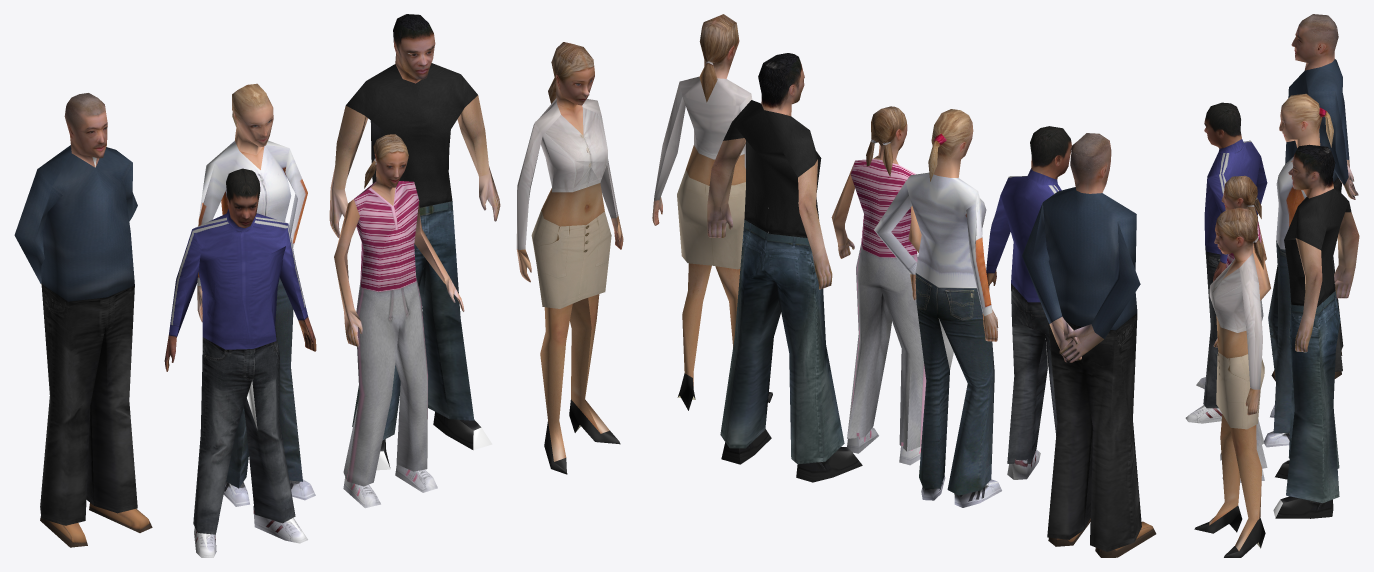
The model's file is crowd.dae.
3 renders of one model, left to right at view 1: azimuth 30°, elevation 25°; view 2: azimuth 150°, elevation 25°; view 3: azimuth 270°, elevation 25°, orthographic. The views are drawn at different scales.
Parts seen in each view (by area): view 1: crowd (×17); view 2: crowd (×17); view 3: crowd (×18).
Boxes of the visible parts, x1,y1,x2,y2 form: crowd (×17): (14,14,623,543); crowd (×17): (652,14,1141,551); crowd (×18): (1185,14,1359,557).
Size of the model in its own units: 97.2 by 31.81 by 71.25.
3 materials, 2 textured.
